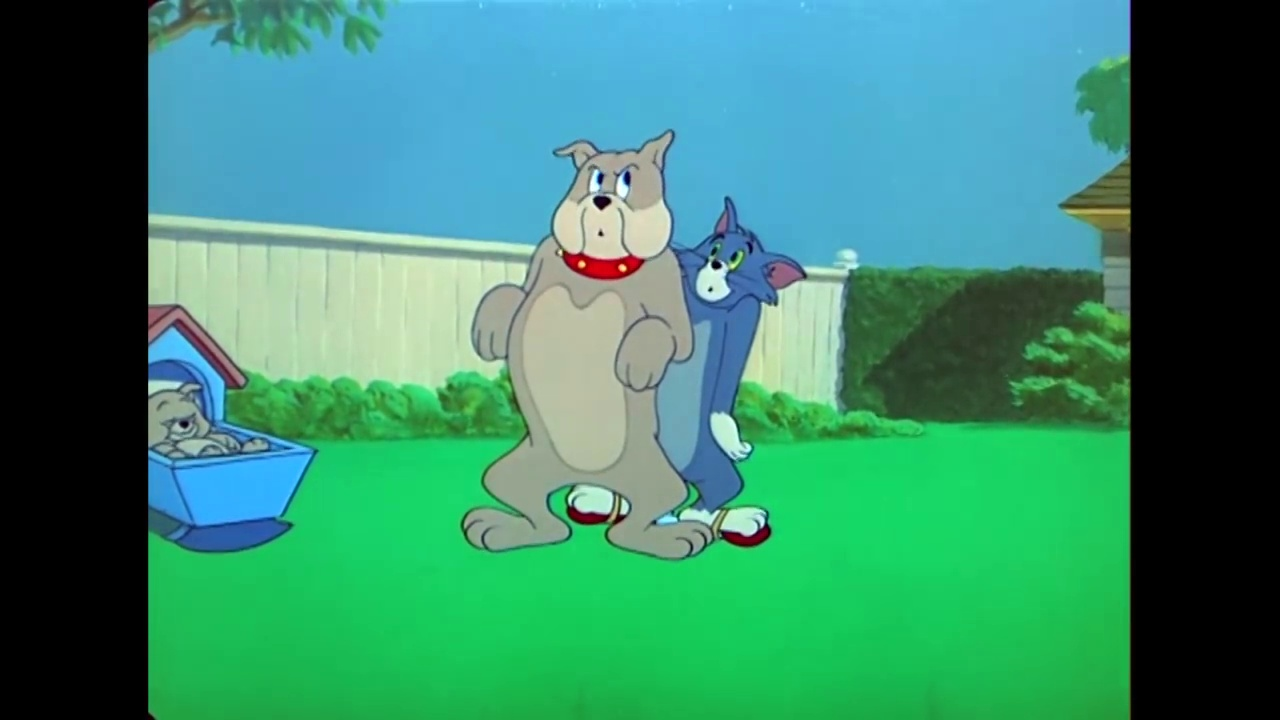spike: (540, 125, 679, 280)
tom: (675, 197, 812, 320)
